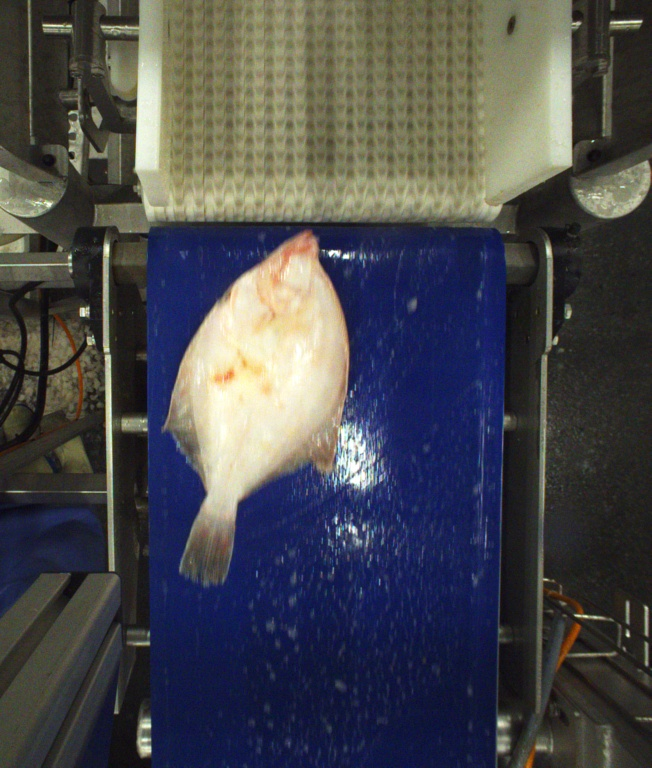PLE: (164, 229, 350, 589)
